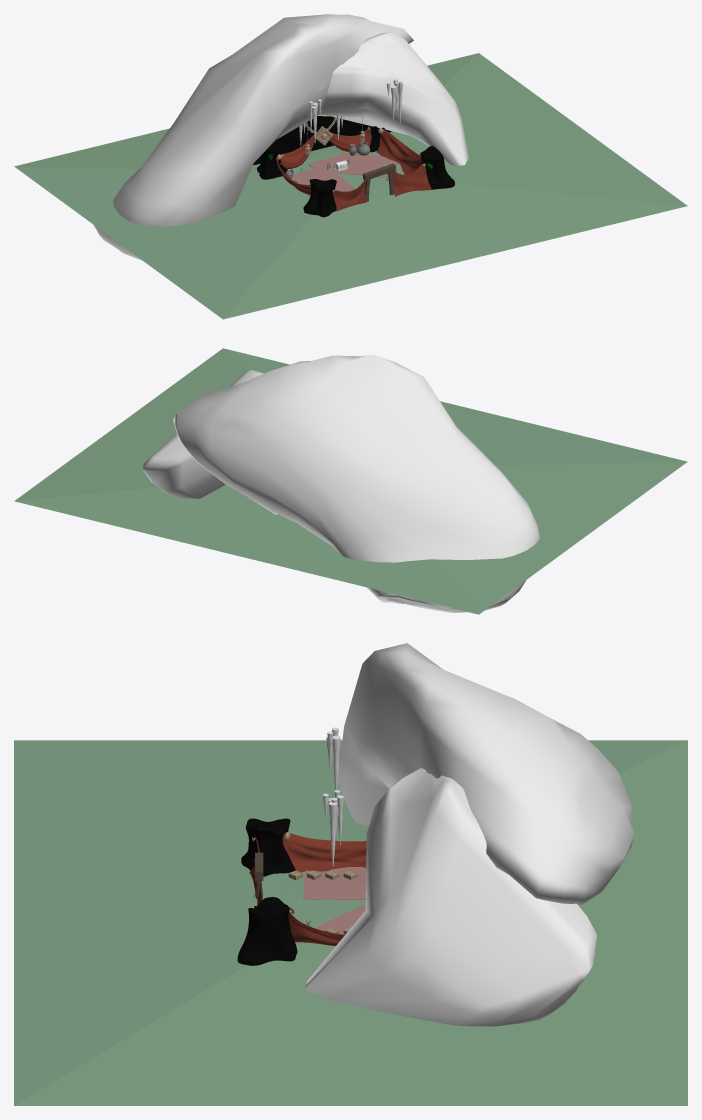
3 renders of one model, top to bottom at view 1: azimuth 30°, elevation 25°; view 2: azimuth 150°, elevation 25°; view 3: azimuth 270°, elevation 25°, orthographic. The views are drawn at different scales.
Parts seen in each view (by area): view 1: terrain, cavern, carpets_2, trunks, carpets, cave, stalaktites, gate; view 2: cavern, terrain; view 3: terrain, cavern, trunks, carpets_2, carpets, stalaktites.
Part boxes in pixels (left/top/right/bottom): terrain: left=14, top=53, right=687, bottom=319; cavern: left=93, top=14, right=468, bottom=259; carpets_2: left=276, top=127, right=431, bottom=211; trunks: left=257, top=125, right=454, bottom=217; carpets: left=291, top=152, right=397, bottom=196; cave: left=253, top=116, right=391, bottom=165; stalaktites: left=299, top=79, right=402, bottom=145; gate: left=362, top=163, right=396, bottom=201; cavern: left=143, top=354, right=540, bottom=612; terrain: left=14, top=348, right=687, bottom=614; terrain: left=14, top=740, right=687, bottom=1105; cavern: left=304, top=643, right=634, bottom=1026; trunks: left=237, top=818, right=297, bottom=965; carpets_2: left=249, top=832, right=366, bottom=945; carpets: left=303, top=867, right=366, bottom=934; stalaktites: left=323, top=727, right=343, bottom=867.
Bounding box in the file's own units: 189 × 82.02 × 147.
